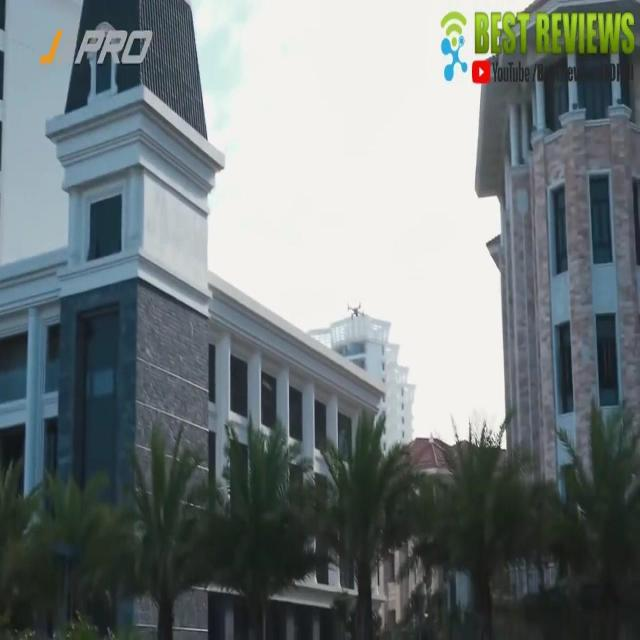UAV: (348, 301, 364, 320)
